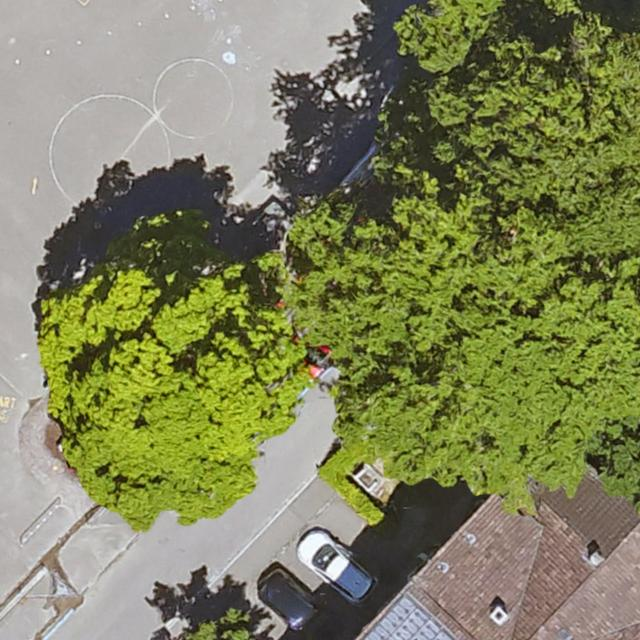tree: (316, 220, 640, 485), (50, 255, 300, 526), (390, 0, 640, 220), (181, 612, 256, 640)
